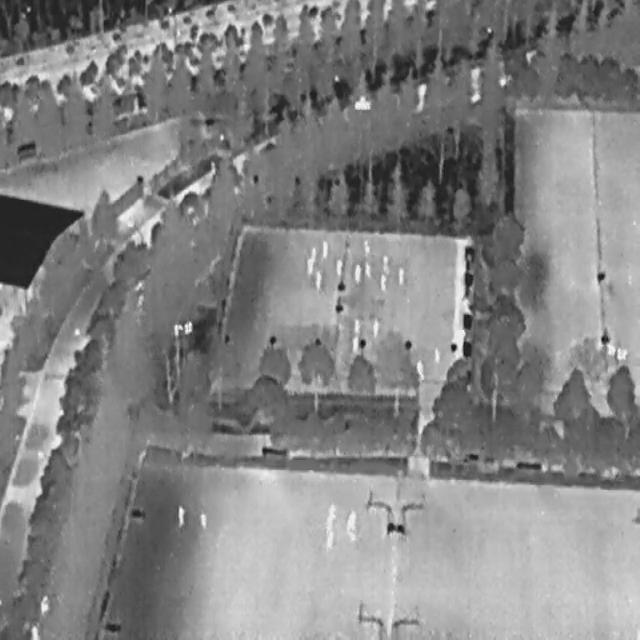Person: (324, 512, 336, 532), (175, 502, 184, 528), (313, 268, 322, 292), (414, 360, 425, 379), (353, 261, 362, 284), (371, 316, 379, 339), (381, 254, 390, 274), (348, 508, 358, 526), (326, 528, 334, 550), (350, 333, 359, 352), (362, 259, 372, 276), (344, 524, 356, 538), (378, 274, 387, 292), (432, 346, 441, 364), (353, 316, 361, 335), (361, 239, 370, 255), (199, 508, 206, 528), (320, 239, 328, 256), (397, 265, 404, 284), (306, 255, 313, 274), (334, 258, 342, 274), (310, 245, 316, 261), (327, 500, 335, 512)
